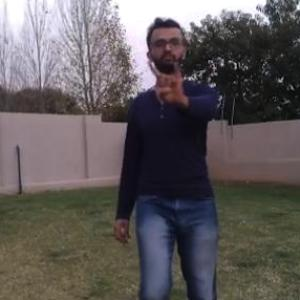takeoff-hand: (144, 56, 193, 112)
